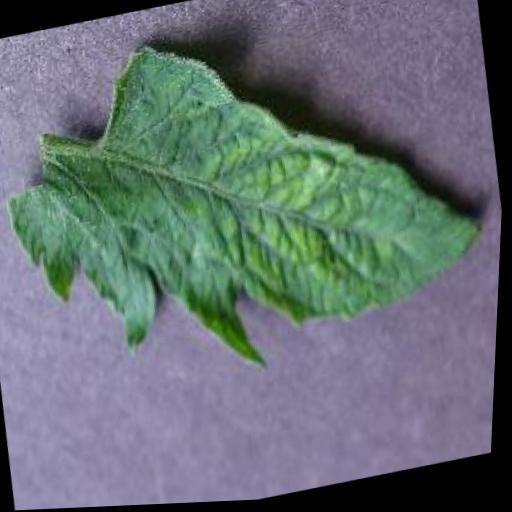Mosaic Virus: (0, 0, 508, 417)
